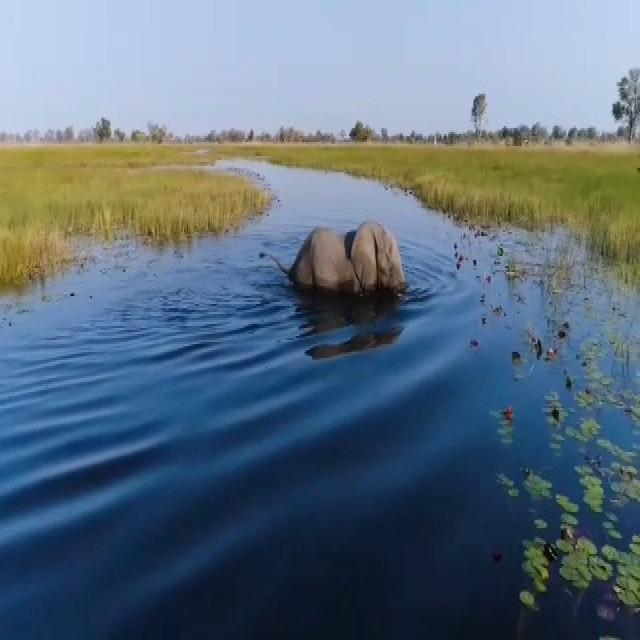Elephant: (262, 216, 416, 305)
